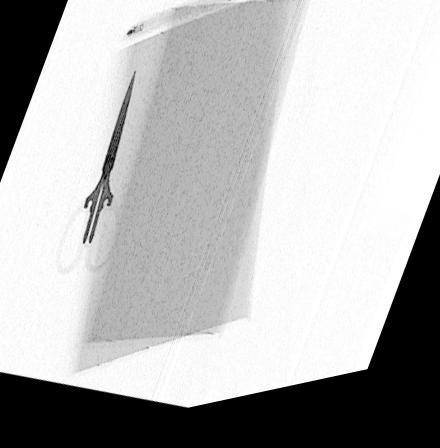Scissors: (51, 74, 136, 279)
